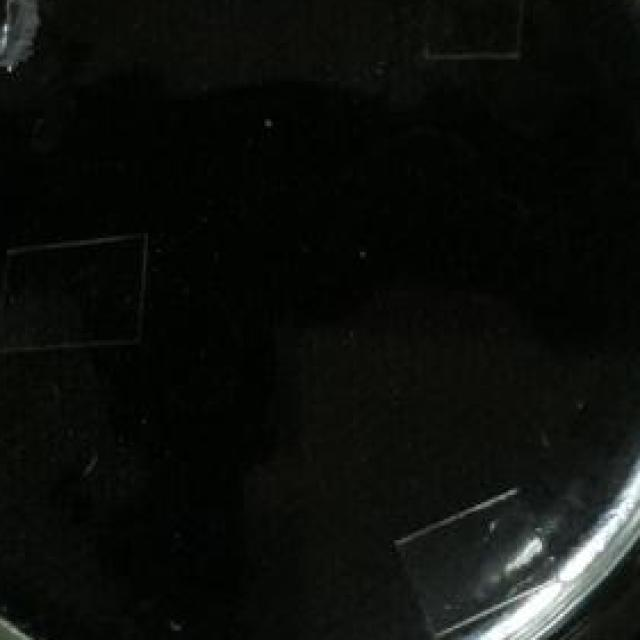Microplastic: (392, 483, 558, 640), (0, 223, 162, 349), (412, 0, 531, 64), (0, 0, 64, 79)
